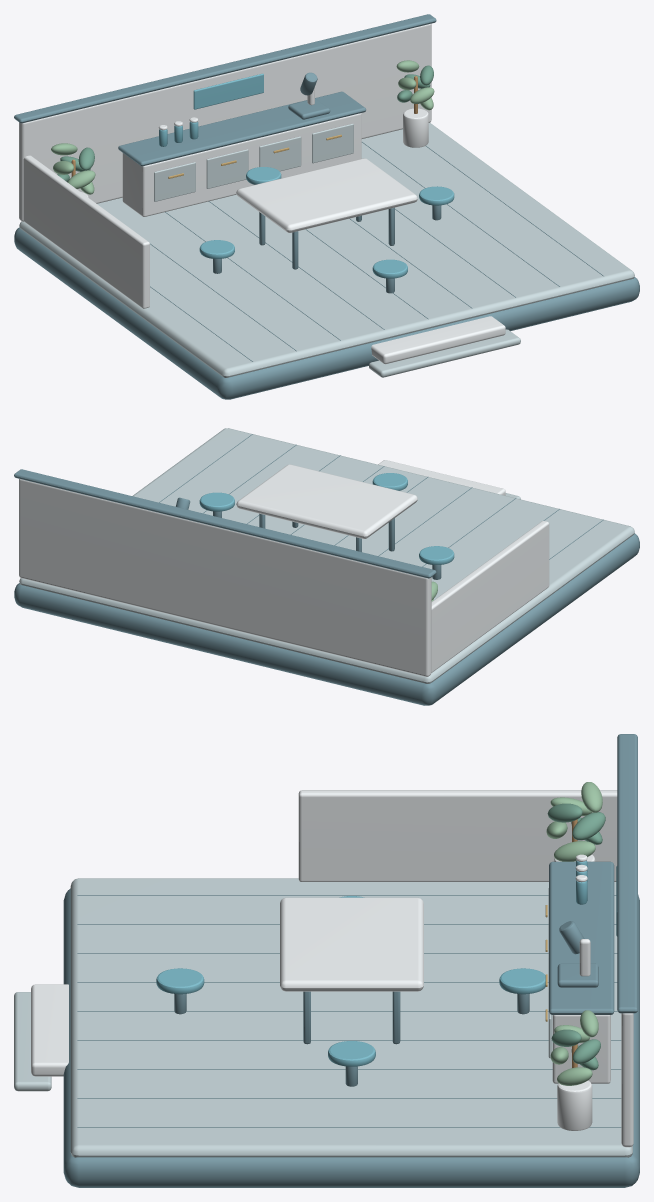
The model's file is laboratory.glb.
3 renders of one model, top to bottom at view 1: azimuth 30°, elevation 25°; view 2: azimuth 150°, elevation 25°; view 3: azimuth 270°, elevation 25°, orthographic. The views are drawn at different scales.
Visible parts, largest first — view 1: Floor.002, Back_wall.002, Foundation.002, Left_wall.002, Lab_table, Back_bench, Back_worktop, Back_cap.002, Entry_step.002, Entry_step_lower.002, Information_board, Drawer.001 (+8 smaller); view 2: Back_wall.002, Floor.002, Foundation.002, Left_wall.002, Lab_table, Back_cap.002, Entry_step.002, Lab_stool.001, Lab_stool.003, Lab_stool; view 3: Floor.002, Left_wall.002, Foundation.002, Lab_table, Back_worktop, Back_cap.002, Entry_step.002, Entry_step_lower.002, Back_bench, Back_wall.002, Planter.005, Lab_stool (+4 smaller).
Boxes of the visible parts, box(x1,y1,x2,y2) form: Floor.002: box(19, 123, 634, 377); Back_wall.002: box(19, 23, 431, 221); Foundation.002: box(14, 227, 639, 399); Left_wall.002: box(23, 155, 149, 308); Lab_table: box(236, 158, 417, 232); Back_bench: box(122, 113, 361, 216); Back_worktop: box(118, 91, 366, 166); Back_cap.002: box(14, 14, 436, 123); Entry_step.002: box(371, 316, 505, 364); Entry_step_lower.002: box(369, 329, 520, 377); Information_board: box(193, 73, 263, 109); Drawer.001: box(206, 149, 248, 188); Back_wall.002: box(19, 479, 431, 676); Floor.002: box(19, 428, 634, 683); Foundation.002: box(14, 533, 639, 705); Left_wall.002: box(431, 521, 549, 672); Lab_table: box(236, 464, 417, 538); Back_cap.002: box(14, 469, 436, 578); Entry_step.002: box(378, 460, 505, 495); Lab_stool.001: box(199, 492, 234, 511); Lab_stool.003: box(419, 546, 454, 564); Lab_stool: box(372, 473, 407, 490); Floor.002: box(70, 878, 632, 1157); Left_wall.002: box(298, 790, 617, 881); Foundation.002: box(63, 888, 639, 1187); Lab_table: box(280, 897, 423, 991); Back_worktop: box(549, 861, 614, 1014); Back_cap.002: box(617, 734, 637, 1013); Entry_step.002: box(31, 984, 68, 1076); Entry_step_lower.002: box(14, 992, 51, 1091); Back_bench: box(552, 1015, 610, 1083); Back_wall.002: box(621, 1013, 633, 1147); Planter.005: box(557, 1080, 592, 1130); Lab_stool: box(156, 968, 204, 994).
Bounding box in the file's own units: 9.6 × 2.95 × 9.12.
